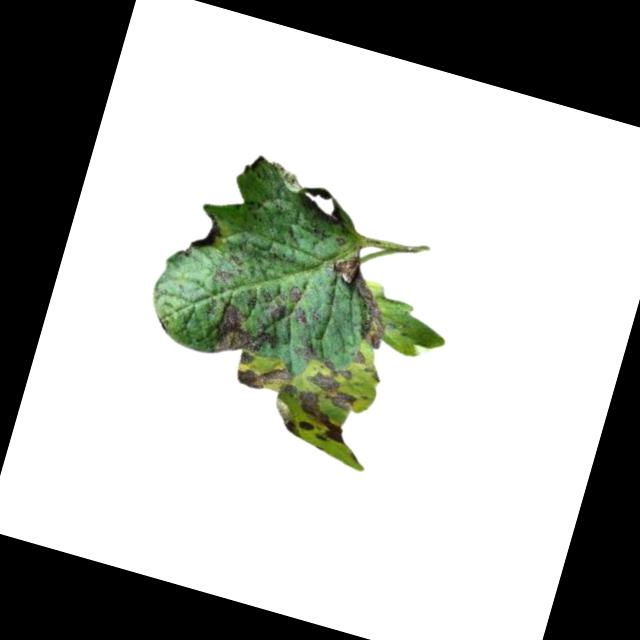Early_blight: (222, 345, 376, 456), (314, 249, 402, 349), (210, 288, 287, 365), (188, 211, 227, 254), (297, 339, 326, 367), (292, 306, 310, 327), (288, 286, 307, 304)
